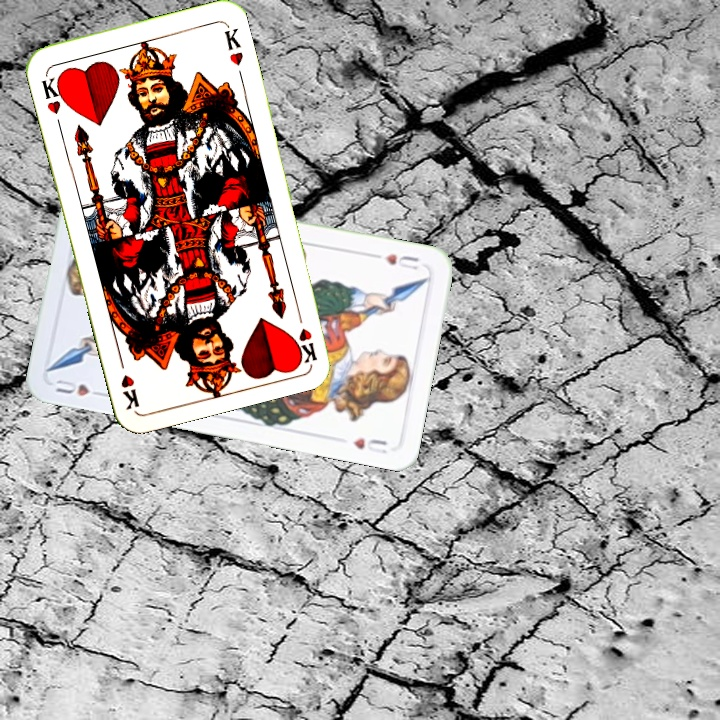HK: (292, 304, 319, 364), (37, 70, 69, 117)
HU: (51, 375, 108, 399), (381, 250, 422, 273)
